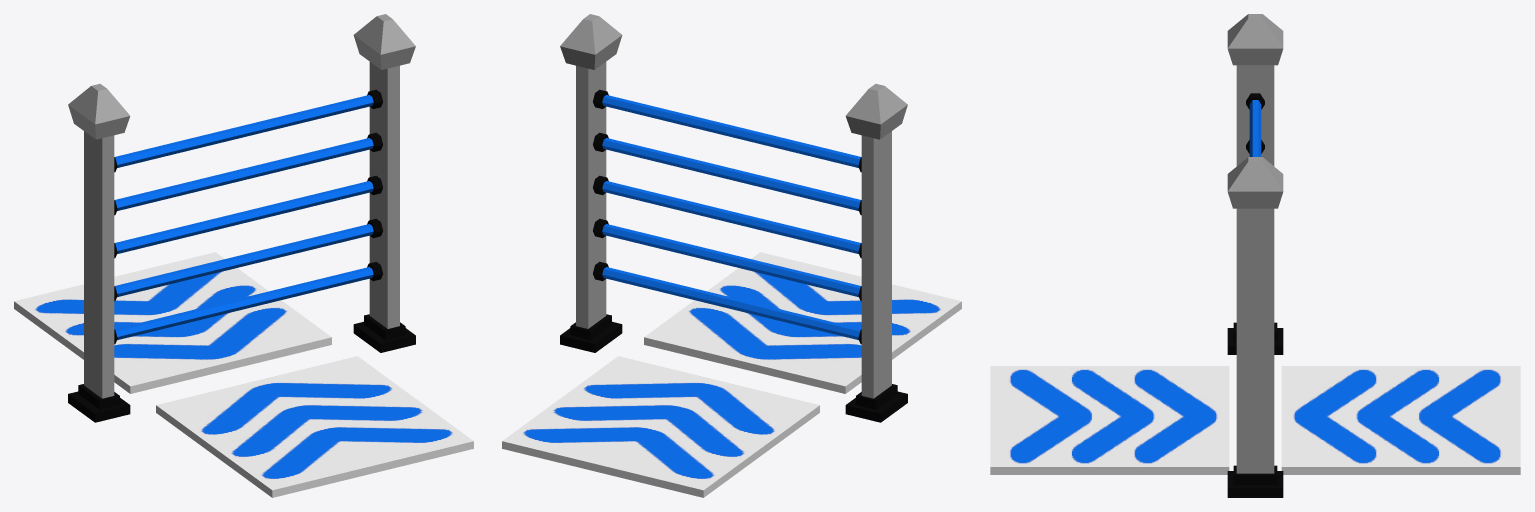
File: Door.fbx
3 views of the same model, side by side, from view 1: azimuth 30°, elevation 25°; view 2: azimuth 150°, elevation 25°; view 3: azimuth 270°, elevation 25° (orthographic). The views are drawn at different scales.
Parts seen in each view (by area): view 1: Door; view 2: Door; view 3: Door.
Part boxes in pixels (<box>): Door: <box>14,14,473,497</box>; Door: <box>502,14,961,497</box>; Door: <box>990,14,1520,497</box>.
Size of the model in its own units: 187 by 260 by 182.
5 materials, 1 textured.
